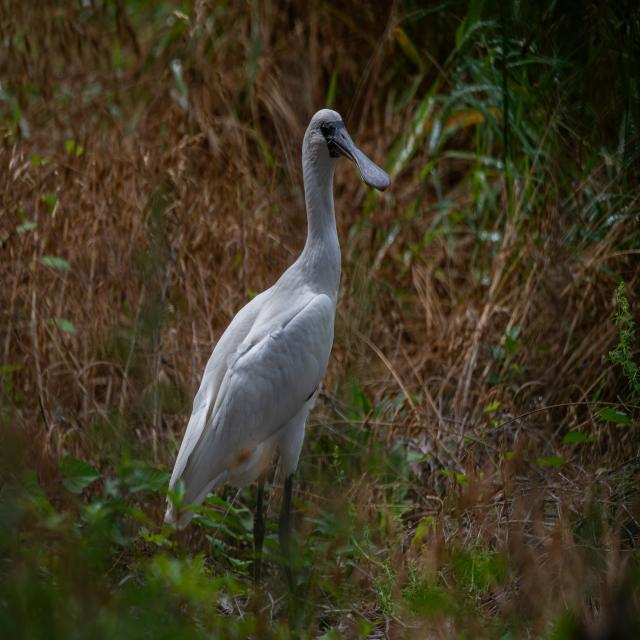Black-faced spoonbill: (170, 110, 390, 586)
